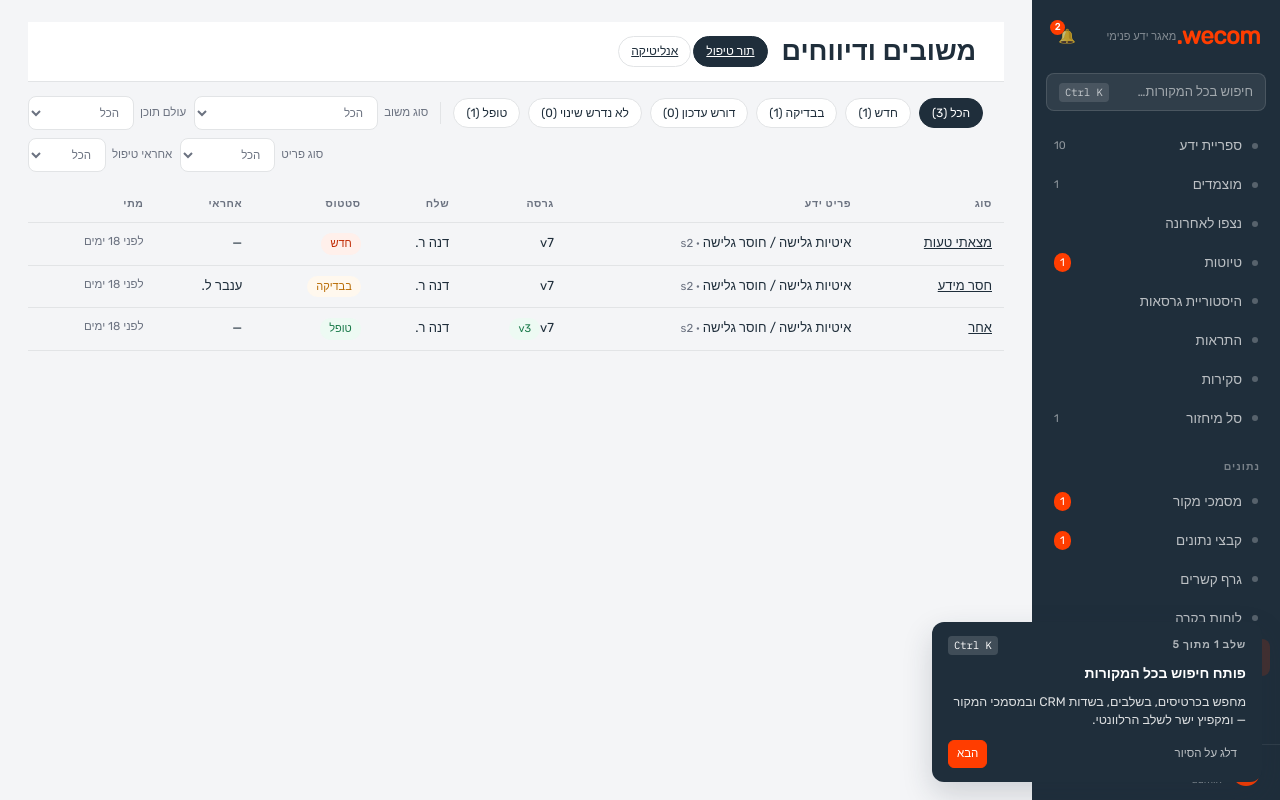
Test: <FeedbackPage> › shows status tabs with counts, filters by tab and by kind
Check: the tab "חדש (1)" is shown, box [845,98,911,128]
Check: the tab "טופל (1)" is shown, box [453,98,520,128]
Click the tab "בבדיקה (1)" at (797, 113), box [756,98,837,128]
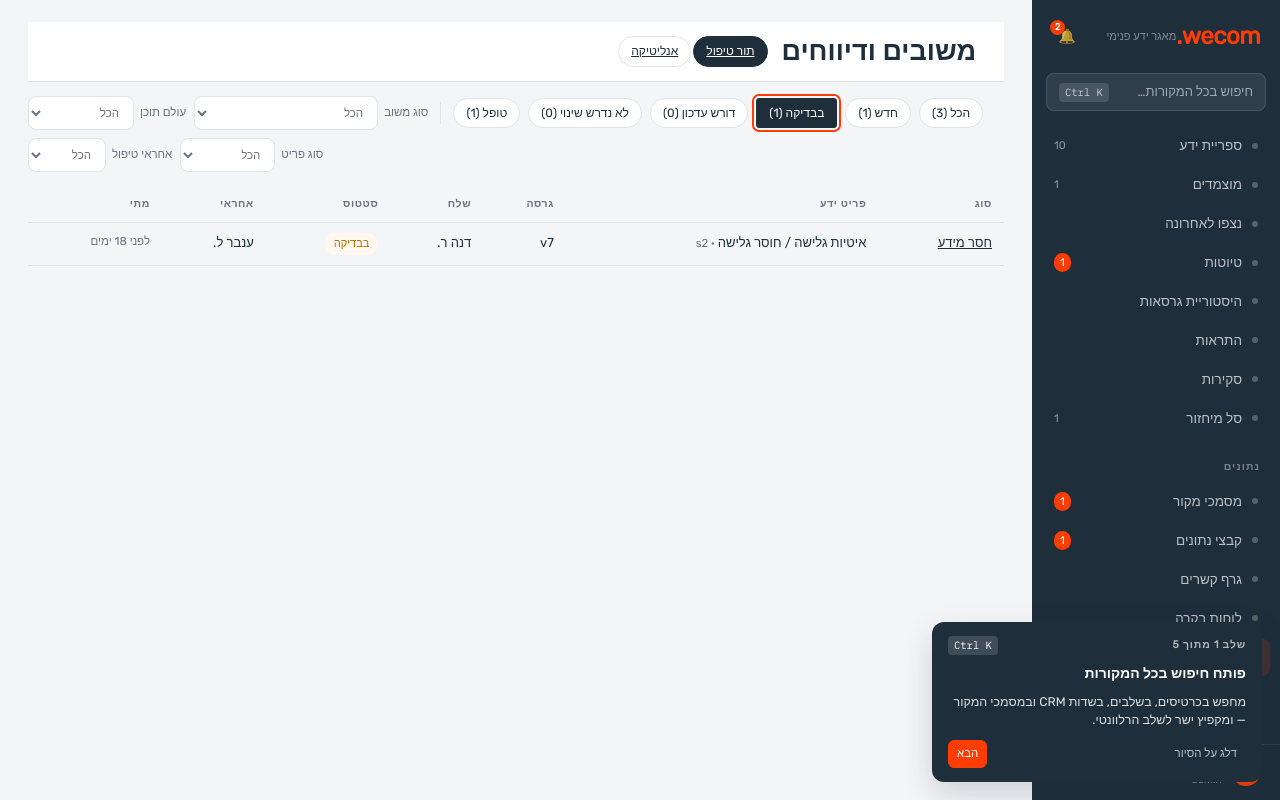
Check: the link "חסר מידע" is shown, box [938,235,992,250]
Check: the number of rows is 2, box [28,186,1004,223]; [28,223,1004,265]
Click the tab "הכל (3)" at (951, 113), box [919,98,983,128]
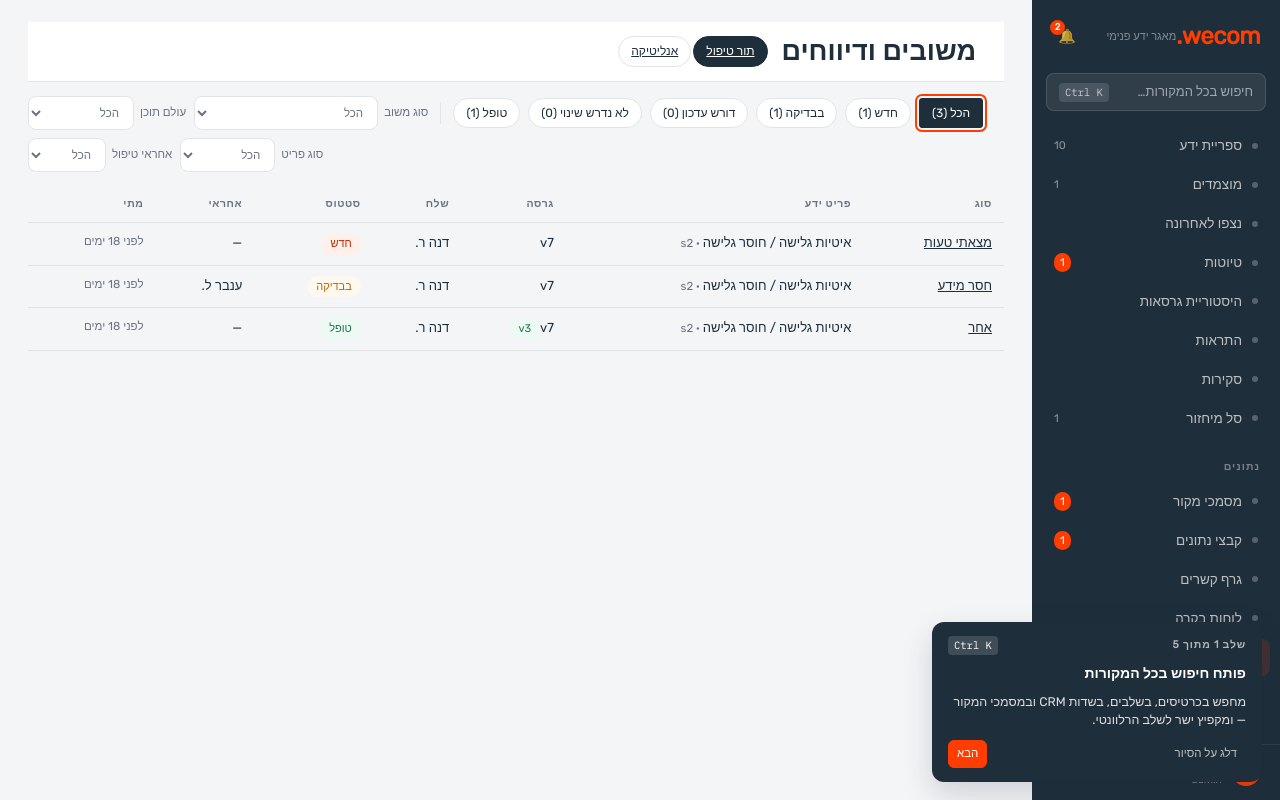
Select "אחר" in the dropdown labelled "סוג משוב" at (286, 113), box [194,96,378,130]
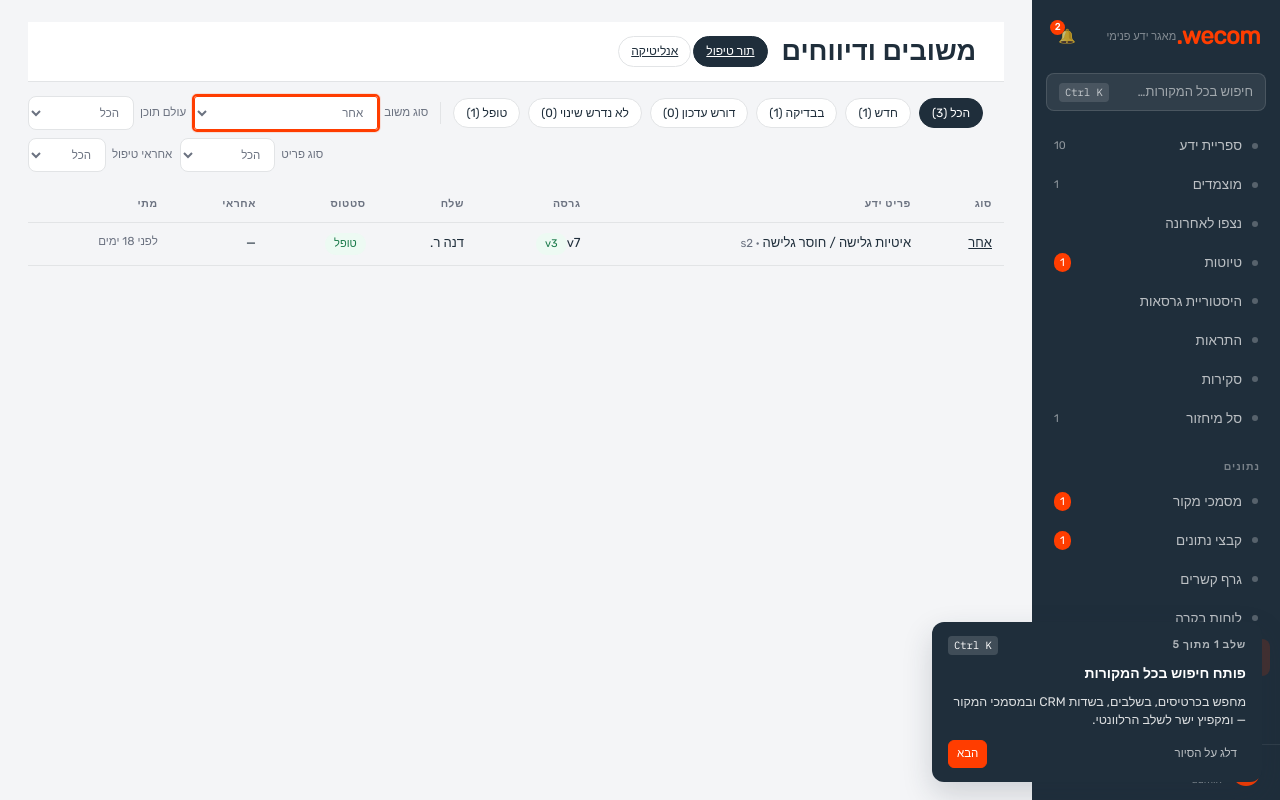
Check: the text "v3" is shown, box [536,233,567,255]
Check: the number of rows is 2, box [28,186,1004,223]; [28,223,1004,265]
